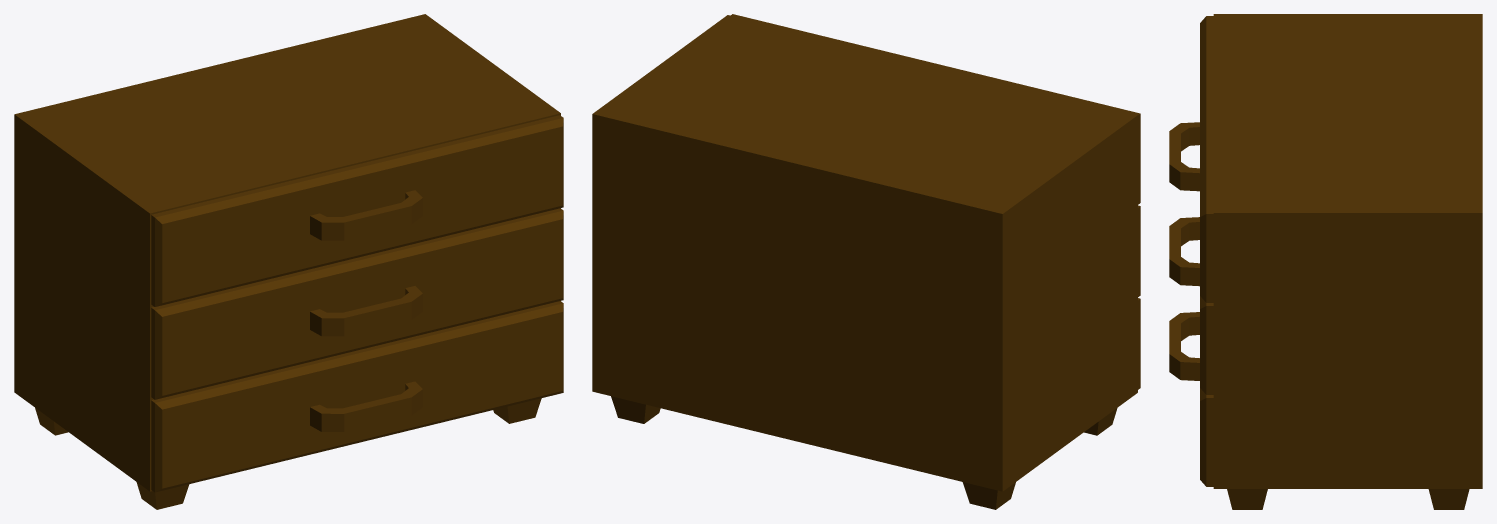
The model's file is CupboardModel.FBX.
3 renders of one model, left to right at view 1: azimuth 30°, elevation 25°; view 2: azimuth 150°, elevation 25°; view 3: azimuth 270°, elevation 25°, orthographic.
Parts seen in each view (by area): view 1: Box01; view 2: Box01; view 3: Box01.
Boxes of the visible parts, box(x1,y1,x2,y2) form: Box01: box(14, 14, 563, 509); Box01: box(592, 14, 1140, 509); Box01: box(1169, 14, 1482, 509).
Size of the model in its own units: 70 by 50 by 46.62.
